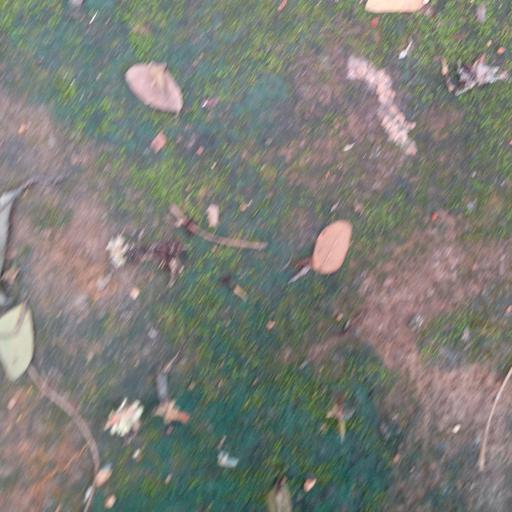algae: (15, 0, 512, 505)
